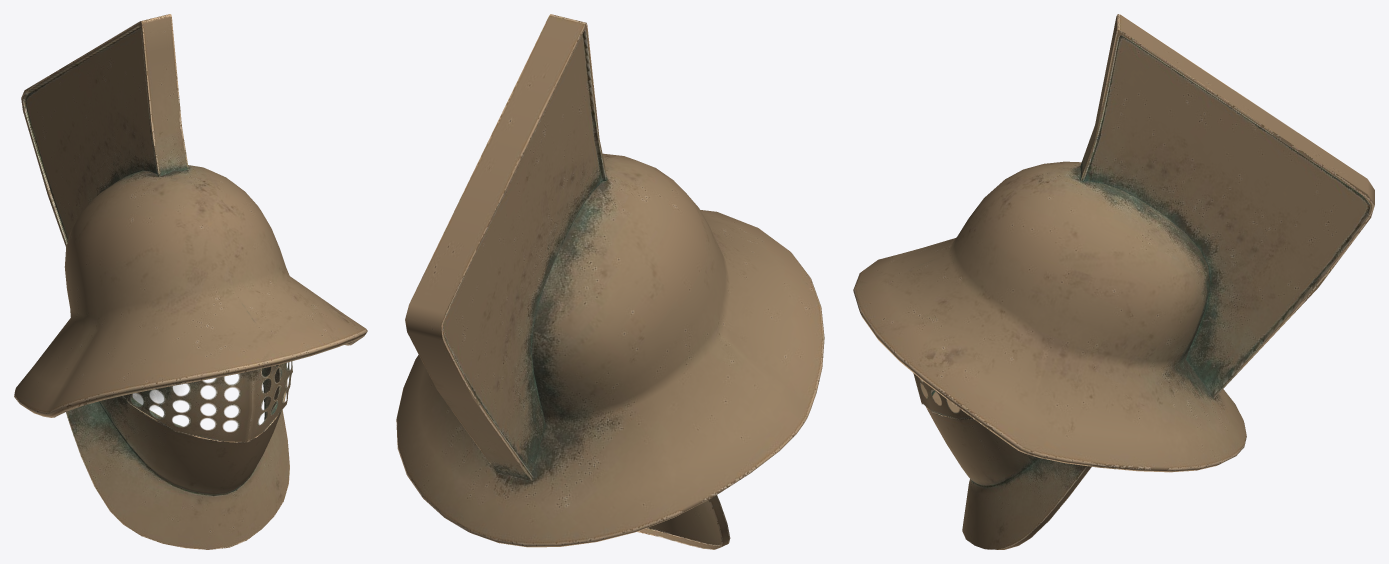
The model's file is elmo_gladiador.glb.
The picture shows the model from 3 angles, left to right: view 1: azimuth 30°, elevation 25°; view 2: azimuth 150°, elevation 25°; view 3: azimuth 270°, elevation 25°; orthographic projection. The views are drawn at different scales.
Visible parts, largest first — view 1: HelmLP, FaceGuard_LP, Fin_LP, Visor_LP; view 2: HelmLP, Fin_LP, FaceGuard_LP; view 3: HelmLP, Fin_LP, FaceGuard_LP, Visor_LP.
Boxes of the visible parts, bbox=[...] form: HelmLP: bbox=[14, 165, 367, 417]; FaceGuard_LP: bbox=[66, 365, 289, 549]; Fin_LP: bbox=[21, 14, 188, 247]; Visor_LP: bbox=[121, 361, 292, 442]; HelmLP: bbox=[396, 153, 824, 547]; Fin_LP: bbox=[405, 14, 607, 480]; FaceGuard_LP: bbox=[637, 495, 730, 549]; HelmLP: bbox=[853, 161, 1246, 472]; Fin_LP: bbox=[1080, 14, 1374, 398]; FaceGuard_LP: bbox=[926, 390, 1091, 549]; Visor_LP: bbox=[913, 373, 972, 419].
Size of the model in its own units: 105 by 157 by 145.
Materials: 1 (1 with a texture image).
